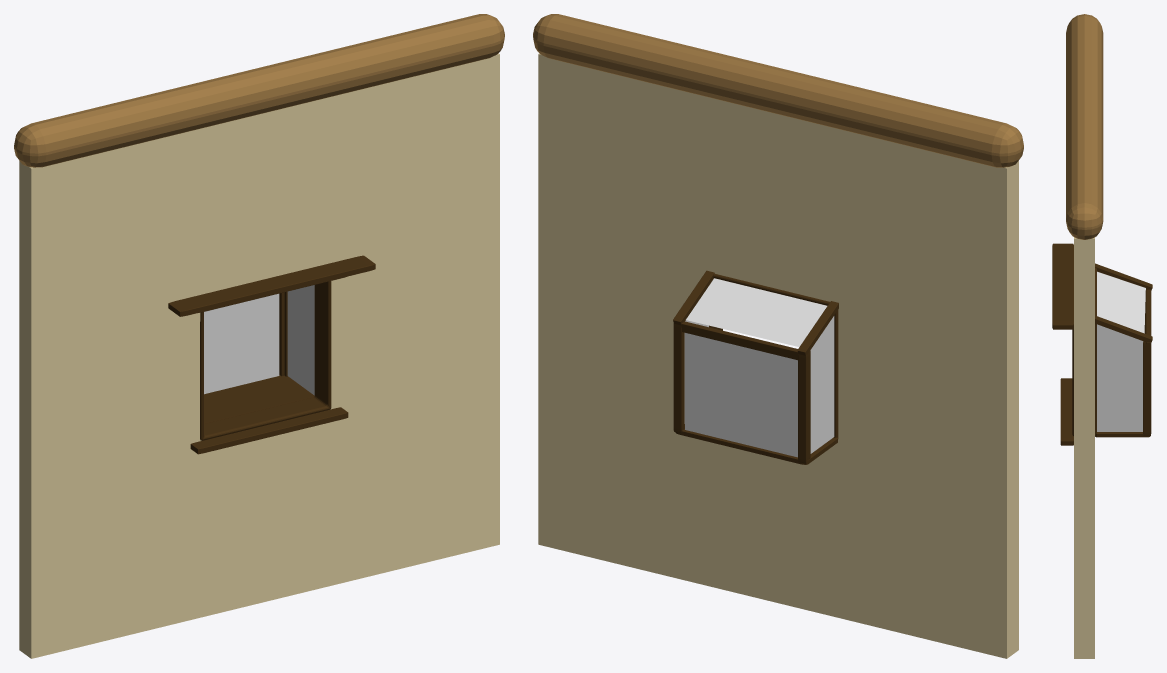
The model's file is SingleWallwithouttBrick02.fbx.
3 renders of one model, left to right at view 1: azimuth 30°, elevation 25°; view 2: azimuth 150°, elevation 25°; view 3: azimuth 270°, elevation 25°, orthographic. The views are drawn at different scales.
Parts seen in each view (by area): view 1: SingleWall-Window01.001; view 2: SingleWall-Window01.001; view 3: SingleWall-Window01.001.
Boxes of the visible parts, bbox=[...] form: SingleWall-Window01.001: bbox=[14, 14, 504, 658]; SingleWall-Window01.001: bbox=[533, 14, 1023, 658]; SingleWall-Window01.001: bbox=[1052, 14, 1152, 658].
Bounding box in the file's own units: 207 × 215 × 43.31.
